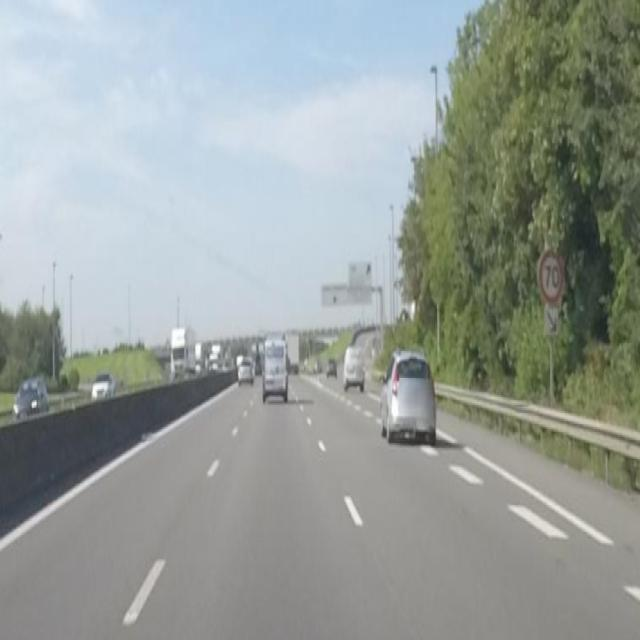speed_70: (539, 252, 564, 304)
